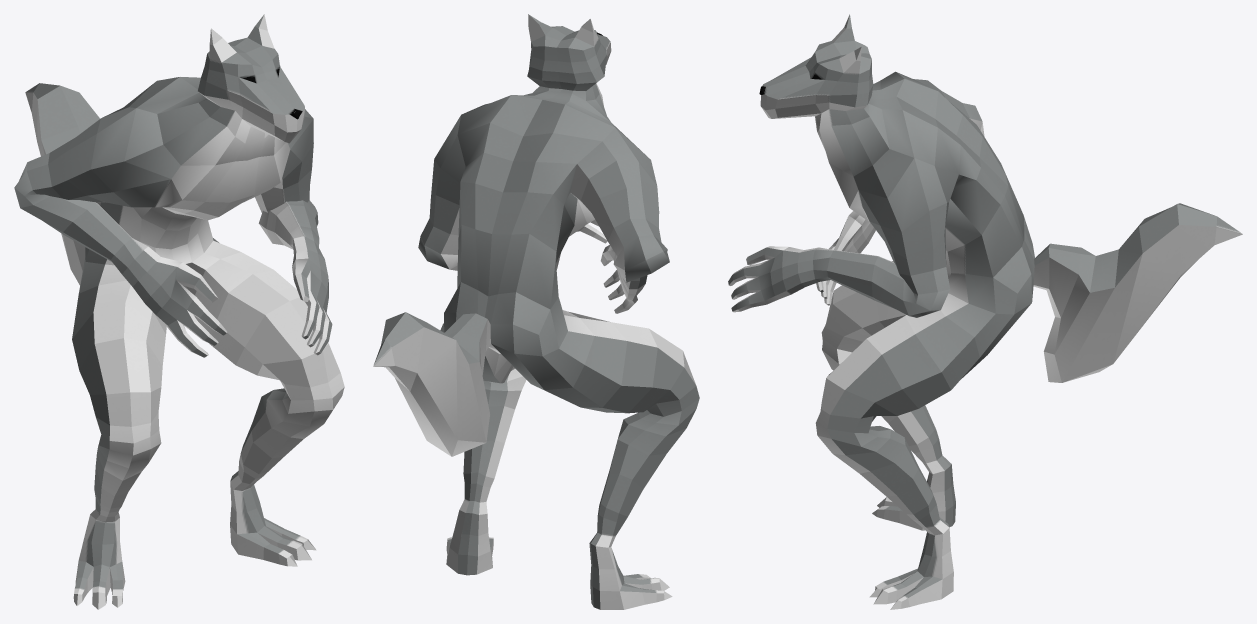
The model's file is WolfIdle_(18).obj.
3 renders of one model, left to right at view 1: azimuth 30°, elevation 25°; view 2: azimuth 150°, elevation 25°; view 3: azimuth 270°, elevation 25°, orthographic. The views are drawn at different scales.
Visible parts, largest first — view 1: Box001; view 2: Box001; view 3: Box001.
Boxes of the visible parts, bbox=[...] form: Box001: bbox=[14, 14, 344, 609]; Box001: bbox=[373, 14, 699, 609]; Box001: bbox=[728, 14, 1242, 609].
Bounding box in the file's own units: 67.34 × 132 × 115.
